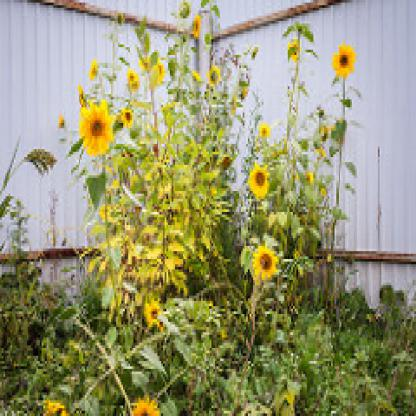SUN FLOWER: (55, 22, 384, 383)
